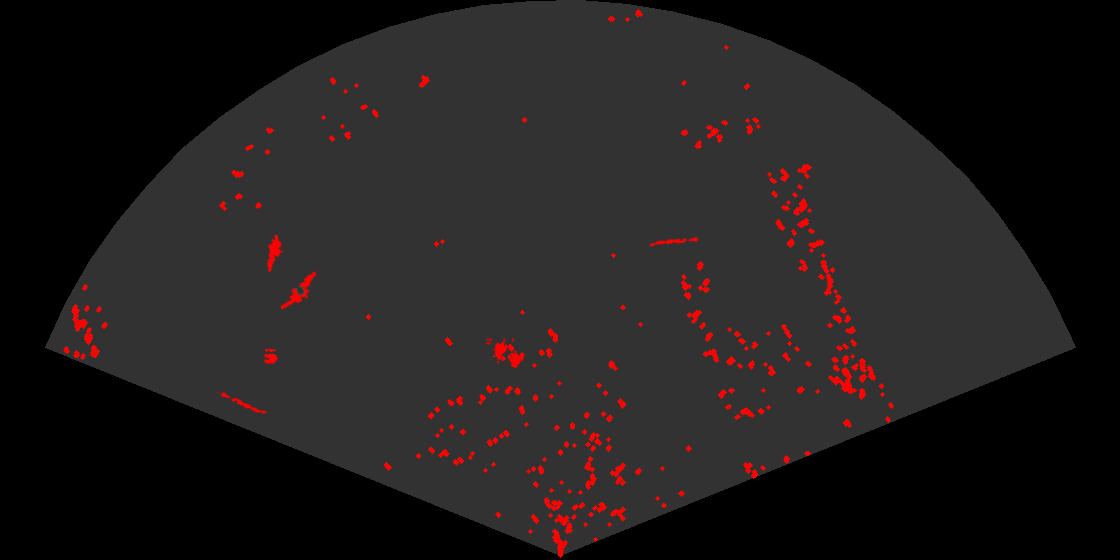ball: (262, 347, 279, 364)
cage: (486, 338, 527, 370)
chain: (216, 389, 268, 415), (648, 235, 699, 248)
frogman: (281, 268, 324, 309), (265, 235, 285, 272)
